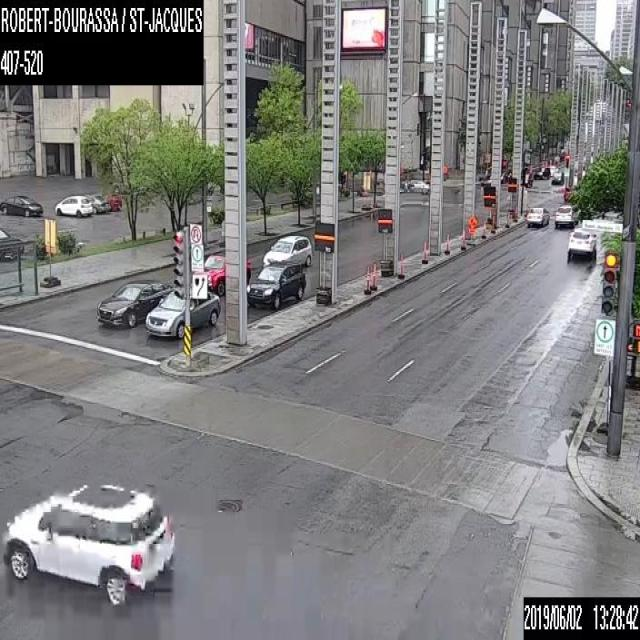construction: (466, 213, 479, 232), (366, 265, 369, 291), (399, 257, 403, 275), (372, 264, 375, 286), (423, 238, 426, 258), (460, 232, 464, 245), (445, 232, 448, 249), (491, 215, 494, 229), (482, 222, 485, 235), (506, 212, 509, 225), (514, 208, 517, 220)
vehicle: (1, 481, 174, 611), (144, 286, 221, 339), (97, 276, 176, 325), (245, 260, 305, 310), (194, 252, 252, 292), (262, 234, 311, 270), (567, 227, 596, 263), (0, 194, 42, 215), (54, 193, 92, 216), (554, 203, 576, 229), (526, 205, 548, 227), (89, 194, 110, 213), (402, 178, 428, 193), (105, 193, 121, 210), (551, 169, 563, 184), (533, 168, 546, 180)
